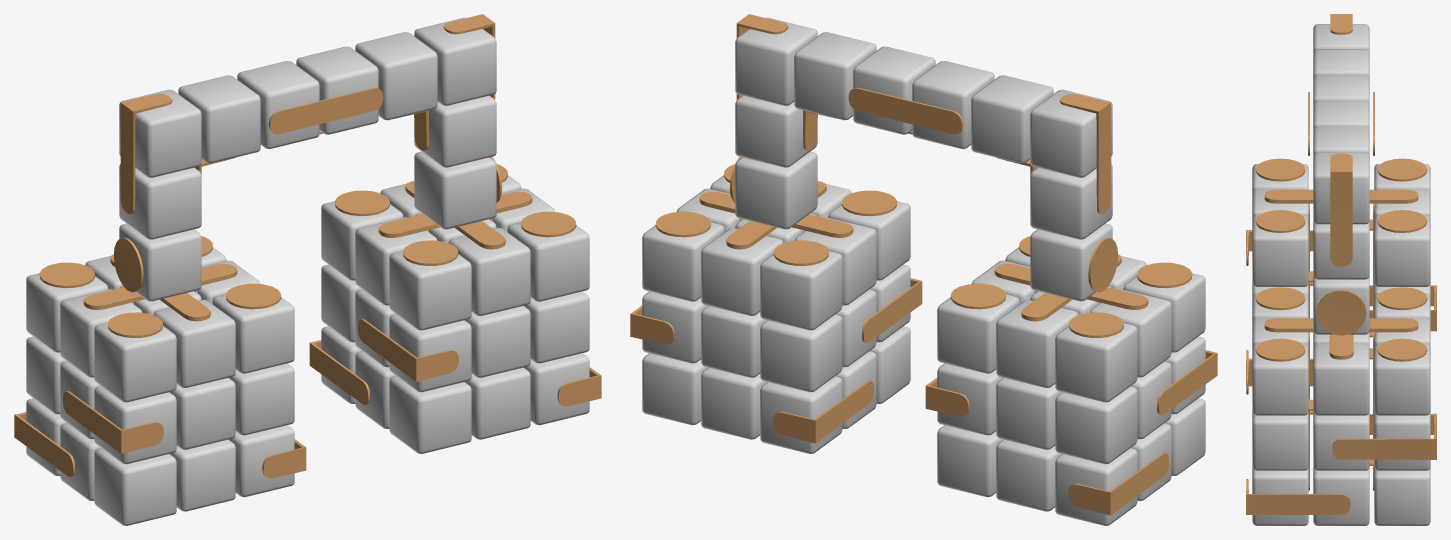
The model's file is level_122.fbx.
3 renders of one model, left to right at view 1: azimuth 30°, elevation 25°; view 2: azimuth 150°, elevation 25°; view 3: azimuth 270°, elevation 25°, orthographic. The views are drawn at different scales.
Visible parts, largest first — view 1: Cube_L4_4, Cube_L1_4, Cube_L7_9, Cube_L6_4, Cube_L3_4, Cube_L7_3, Cube_L7_6, Cube_L7_2, Cube_L7_7, Cube_L1_5, Cube_L4_5, Cube_L7_1 (+50 smaller); view 2: Cube_L4_8, Cube_L1_8, Cube_L7_9, Cube_L2_8, Cube_L5_8, Cube_L7_3, Cube_L7_6, Cube_L7_2, Cube_L7_7, Cube_L1_1, Cube_L4_1, Cube_L7_1 (+50 smaller); view 3: Cube_L1_2, Cube_L1_3, Cube_L1_6, Cube_L4_3, Cube_L4_6, Cube_L2_6, Cube_L3_3, Cube_L7_7, Link_20, Cube_L2_2, Cube_L3_2, Cube_L7_8 (+36 smaller).
Boxes of the visible parts, x1,y1,x2,y2 form: Cube_L4_4: [94, 323, 176, 402]; Cube_L1_4: [389, 251, 471, 330]; Cube_L7_9: [414, 151, 496, 229]; Cube_L6_4: [94, 448, 176, 525]; Cube_L3_4: [389, 376, 471, 453]; Cube_L7_3: [178, 75, 260, 163]; Cube_L7_6: [355, 32, 437, 120]; Cube_L7_2: [119, 89, 201, 177]; Cube_L7_7: [414, 17, 496, 105]; Cube_L1_5: [448, 228, 530, 315]; Cube_L4_5: [153, 300, 235, 387]; Cube_L7_1: [119, 164, 201, 239]; Cube_L4_8: [1055, 323, 1137, 402]; Cube_L1_8: [760, 251, 842, 330]; Cube_L7_9: [735, 151, 817, 229]; Cube_L2_8: [760, 314, 842, 392]; Cube_L5_8: [1055, 386, 1137, 464]; Cube_L7_3: [971, 75, 1053, 163]; Cube_L7_6: [794, 32, 876, 120]; Cube_L7_2: [1030, 89, 1112, 177]; Cube_L7_7: [735, 17, 817, 105]; Cube_L1_1: [701, 228, 783, 315]; Cube_L4_1: [996, 300, 1078, 387]; Cube_L7_1: [1030, 164, 1112, 239]; Cube_L1_2: [1313, 344, 1369, 415]; Cube_L1_3: [1374, 344, 1430, 415]; Cube_L1_6: [1252, 344, 1308, 415]; Cube_L4_3: [1374, 215, 1430, 286]; Cube_L4_6: [1252, 215, 1308, 286]; Cube_L2_6: [1252, 412, 1308, 470]; Cube_L3_3: [1374, 467, 1430, 525]; Cube_L7_7: [1313, 152, 1369, 224]; Link_20: [1330, 153, 1352, 266]; Cube_L2_2: [1313, 412, 1369, 470]; Cube_L3_2: [1313, 467, 1369, 525]; Cube_L7_8: [1313, 221, 1369, 279].
Size of the model in its own units: 17.31 by 12.82 by 6.66.
